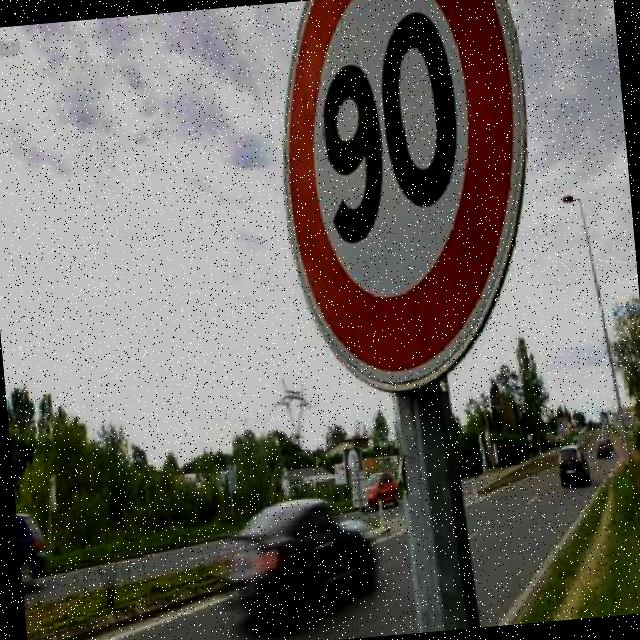Ograniczenie predkosci do 90: (279, 0, 525, 369)
